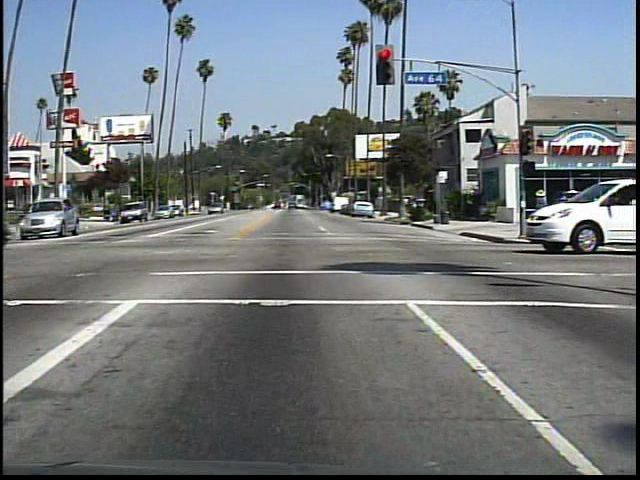person: (528, 186, 553, 214)
